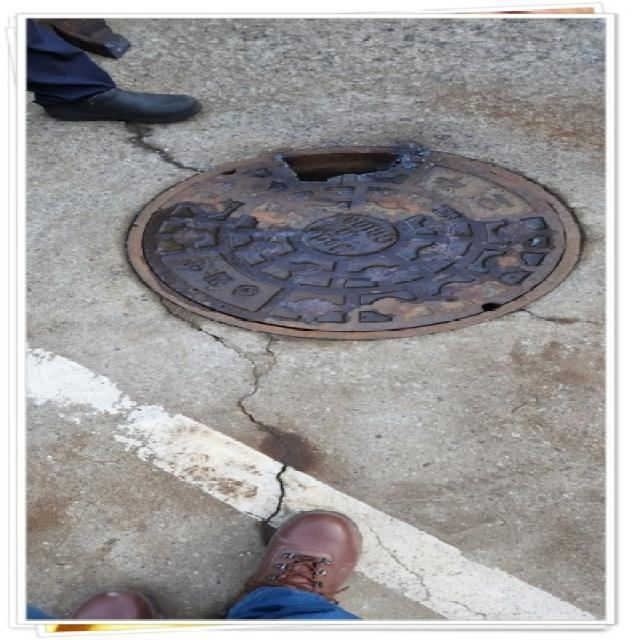manhole: (124, 142, 584, 343)
